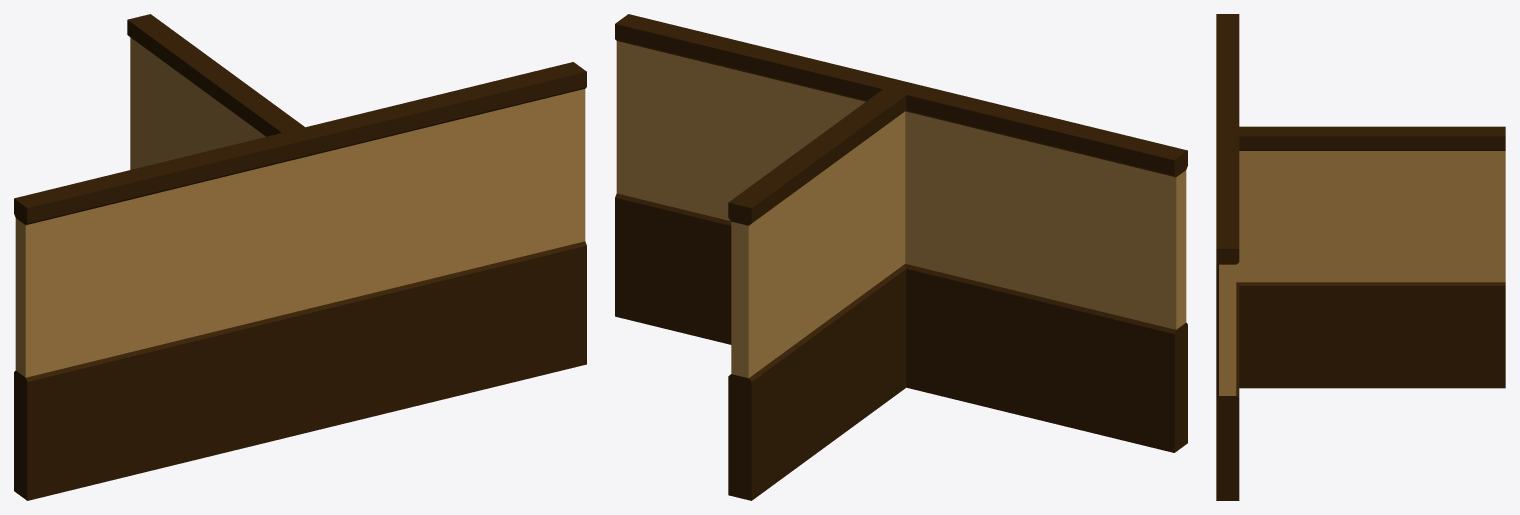
Rendered from Classic_Wall_Joint_snaps001.fbx.
3 views of the same model, side by side, from view 1: azimuth 30°, elevation 25°; view 2: azimuth 150°, elevation 25°; view 3: azimuth 270°, elevation 25° (orthographic). The views are drawn at different scales.
Parts seen in each view (by area): view 1: Classic_Wall_Joint_snaps001; view 2: Classic_Wall_Joint_snaps001; view 3: Classic_Wall_Joint_snaps001.
Boxes of the visible parts, <box> form: Classic_Wall_Joint_snaps001: <box>14,14,586,500</box>; Classic_Wall_Joint_snaps001: <box>615,14,1187,500</box>; Classic_Wall_Joint_snaps001: <box>1216,14,1505,500</box>.
Bounding box in the file's own units: 600 × 300 × 313.
